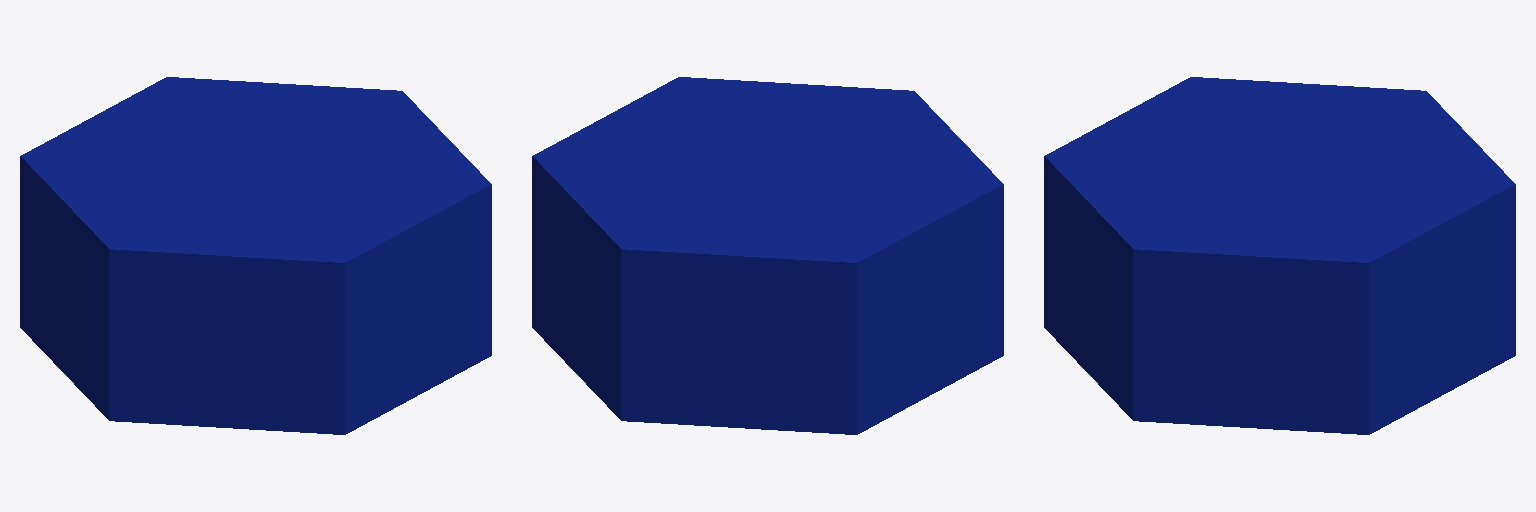
robot.urdf — block:
<robot name="block">
  <link name="block_base_link">
    <inertial>
      <origin rpy="0 0 0" xyz="0.00857 0 0.015"/>
      <mass value="0.05"/>
      <inertia ixx="4.0751e-05" ixy="0.0" ixz="0.0" iyy="4.0751e-05" iyz="0.0" izz="6.4967e-05"/>
    </inertial>
    <collision>
      
      <geometry>
        <mesh filename="16.STL" scale="1 1 1"/>
      </geometry>
    </collision>
    <visual>
 
      <geometry>
        <mesh filename="16.STL" scale="1 1 1"/>
      </geometry>
      <material name="tray_material">
        <color rgba="0.1 0.2 0.6 1"/>
      </material>
    </visual>
  </link>
</robot>

--- Render facts (derived) ---
Views: 3 orthographic renders of the robot side by side, from view 1: azimuth 30°, elevation 25°; view 2: azimuth 150°, elevation 25°; view 3: azimuth 270°, elevation 25°.
Model block with 1 links and 0 joints (none), rooted at block_base_link, posed every joint at zero.
Visible links, largest first — view 1: block_base_link; view 2: block_base_link; view 3: block_base_link.
Boxes of the visible links, x1,y1,x2,y2 form: block_base_link: (20, 77, 491, 434); block_base_link: (532, 77, 1003, 434); block_base_link: (1044, 77, 1515, 434).
Bounding box of the posed robot: 0.0698 × 0.0745 × 0.03 m (x, y, z).
1 mesh visuals loaded from 1 distinct referenced files (1 binary STL).